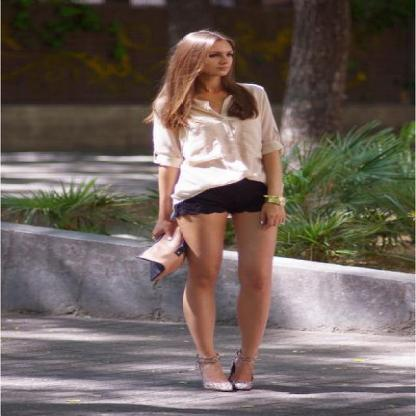bag: (140, 232, 198, 274)
shirt: (143, 83, 282, 191)
skirt: (175, 178, 268, 218)
